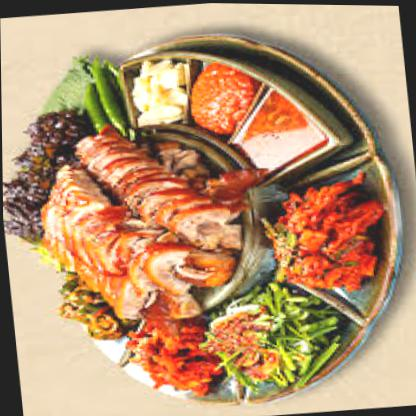pig hocks: (39, 136, 224, 312)
seasoned bellflower root: (266, 182, 379, 288), (126, 309, 208, 396)
